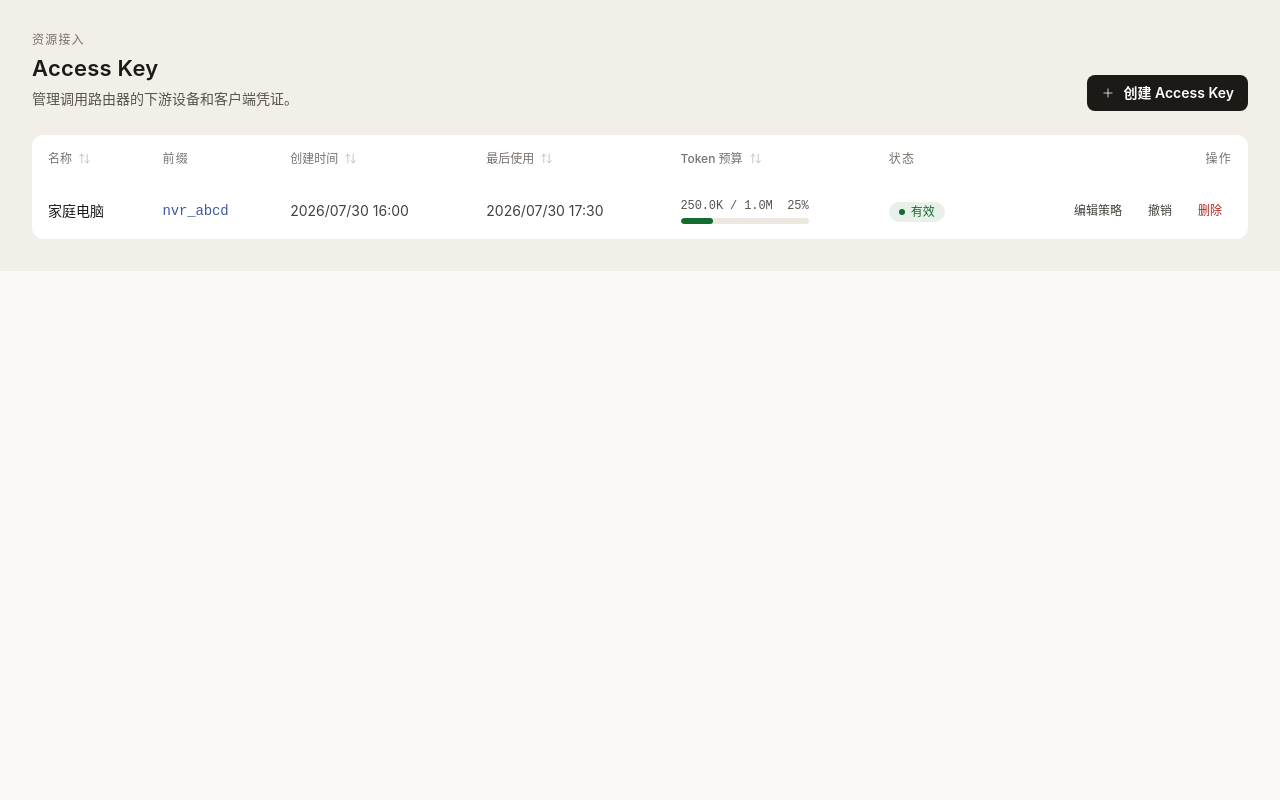
Test case: AccessKeysView › shows a newly created plaintext once, copies it, and cannot recover it after closing
Click the button with test id "open-create-access-key" at coordinates (1168, 93), box [1088,75,1248,111]
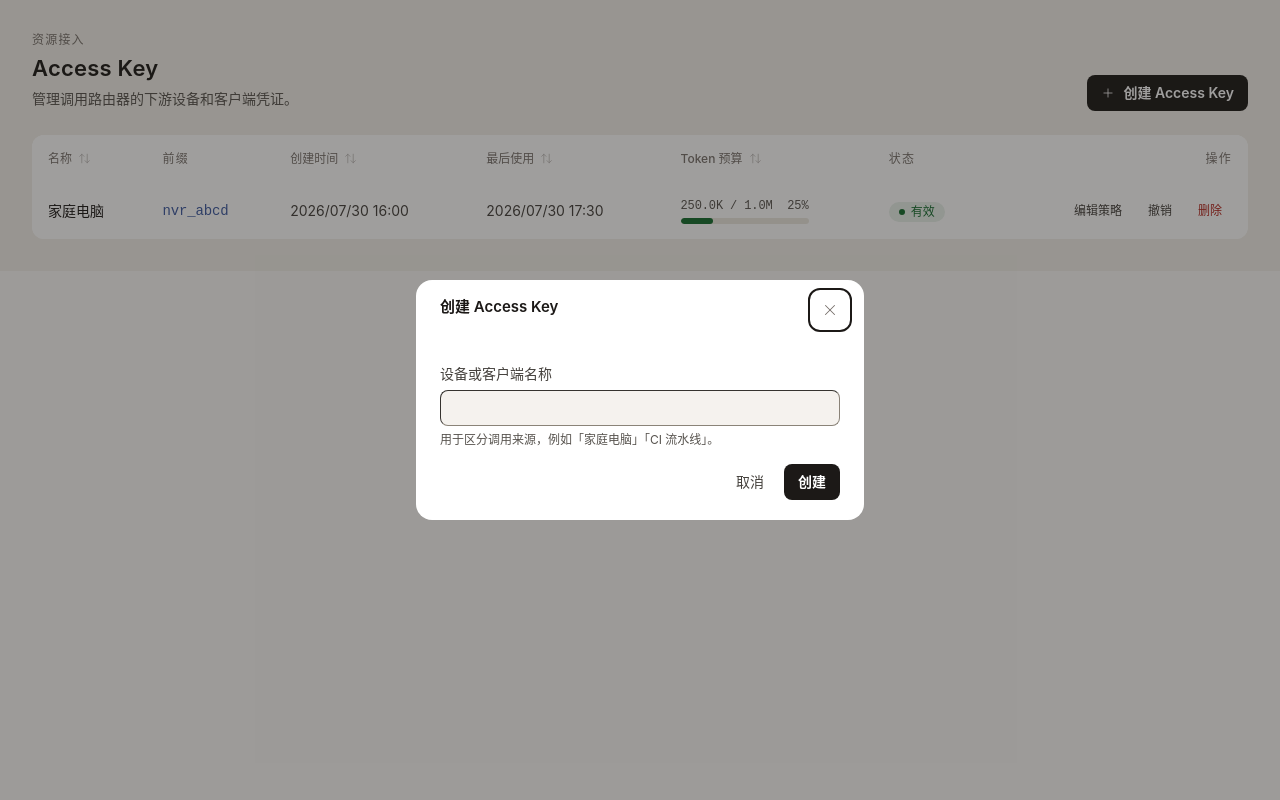
Type "CI" into the field with test id "access-key-name" at coordinates (640, 408), box [440,390,840,426]
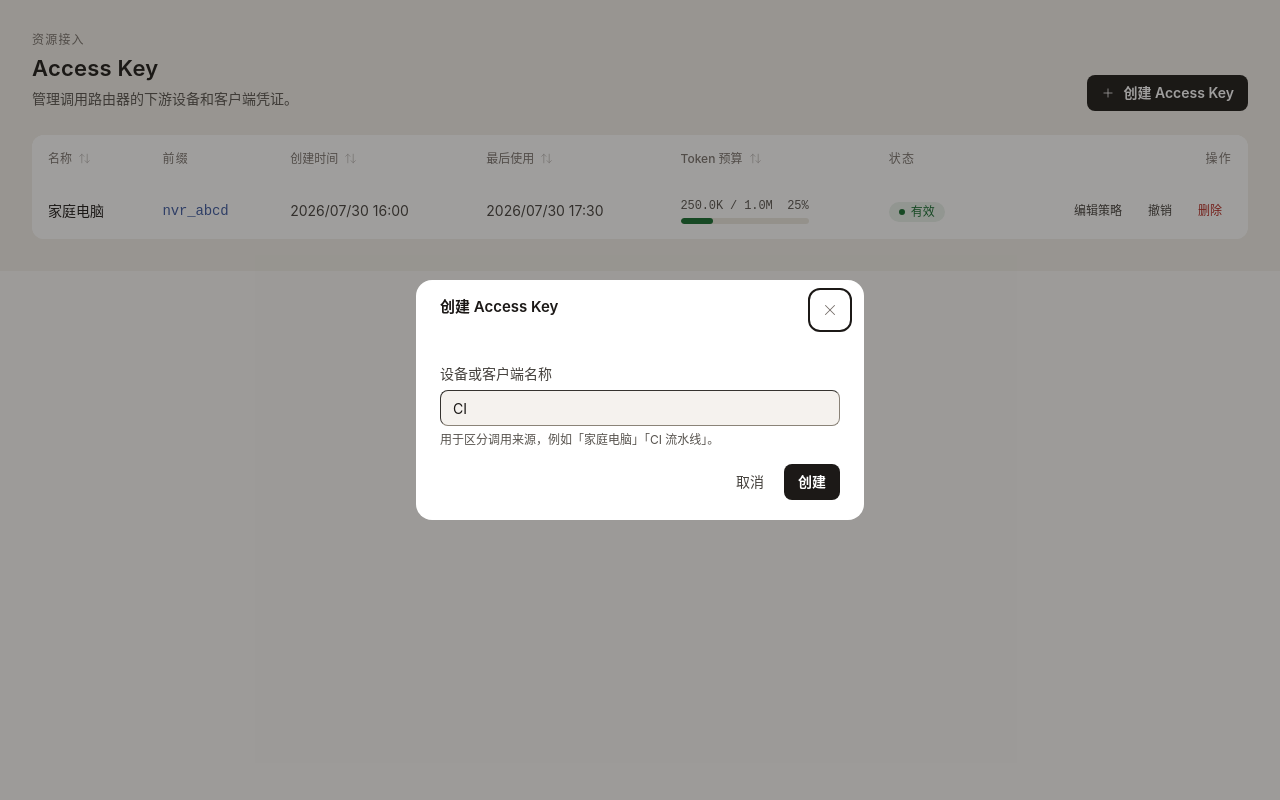
Submit the form with test id "create-access-key-form", box [440,364,840,500]
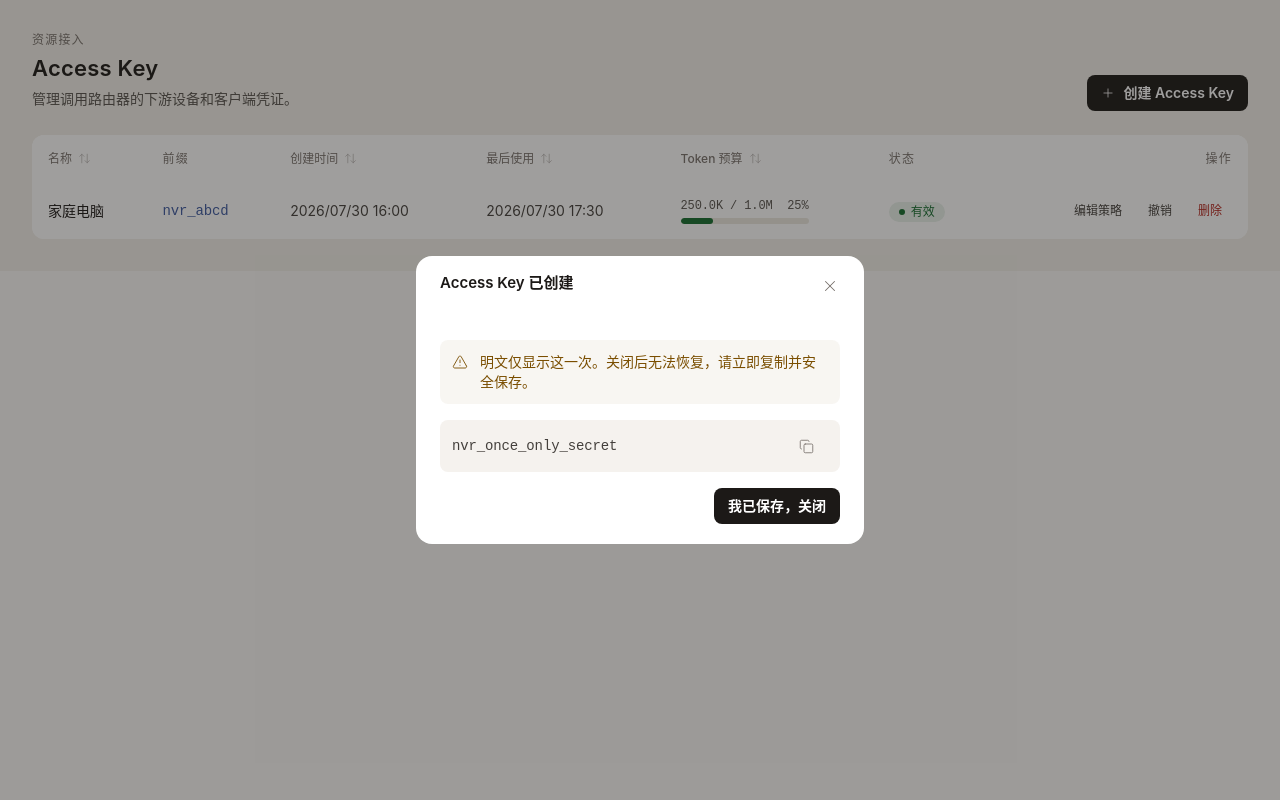
Result: the element with test id "created-access-key" reads "nvr_once_only_secret" at [452,438,617,454]
Click the button with test id "copy-created-access-key" at coordinates (806, 446), box [790,430,822,462]
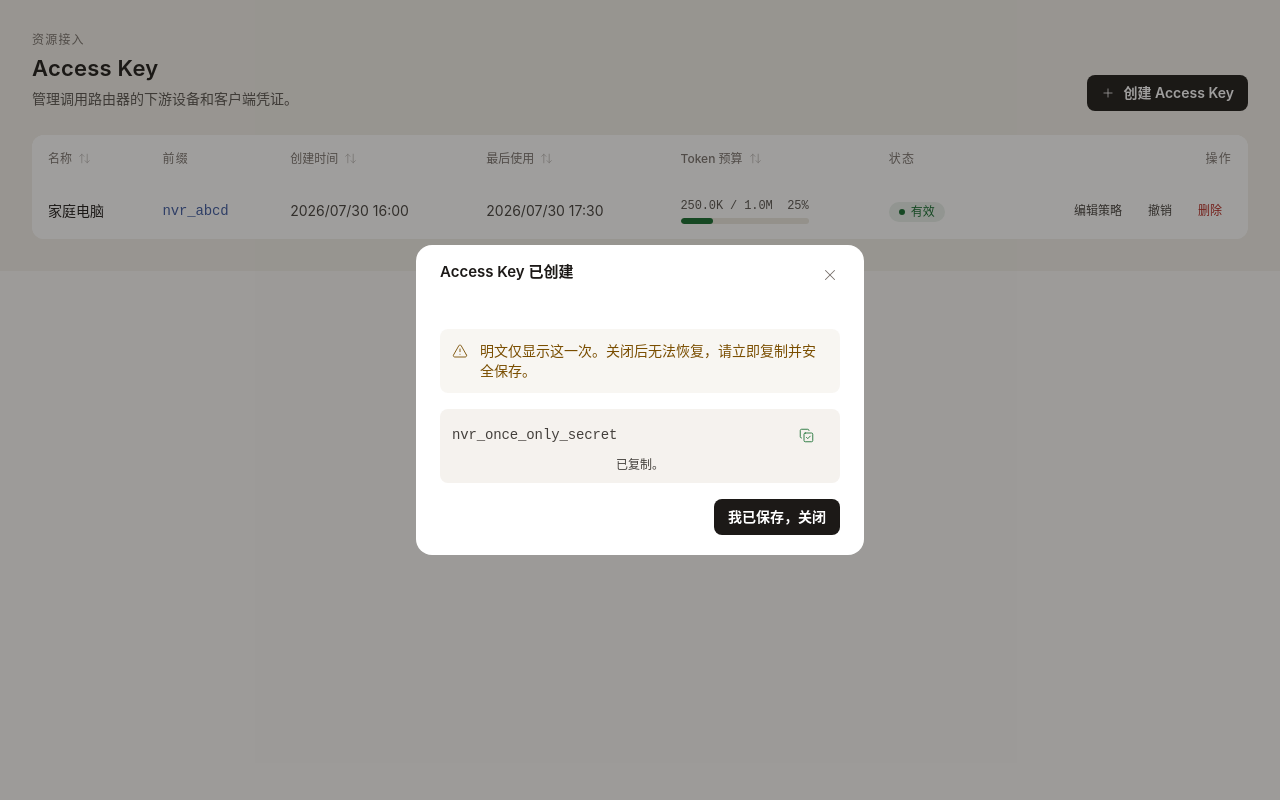
Click the button with test id "close-created-access-key" at coordinates (777, 517), box [714,499,840,535]
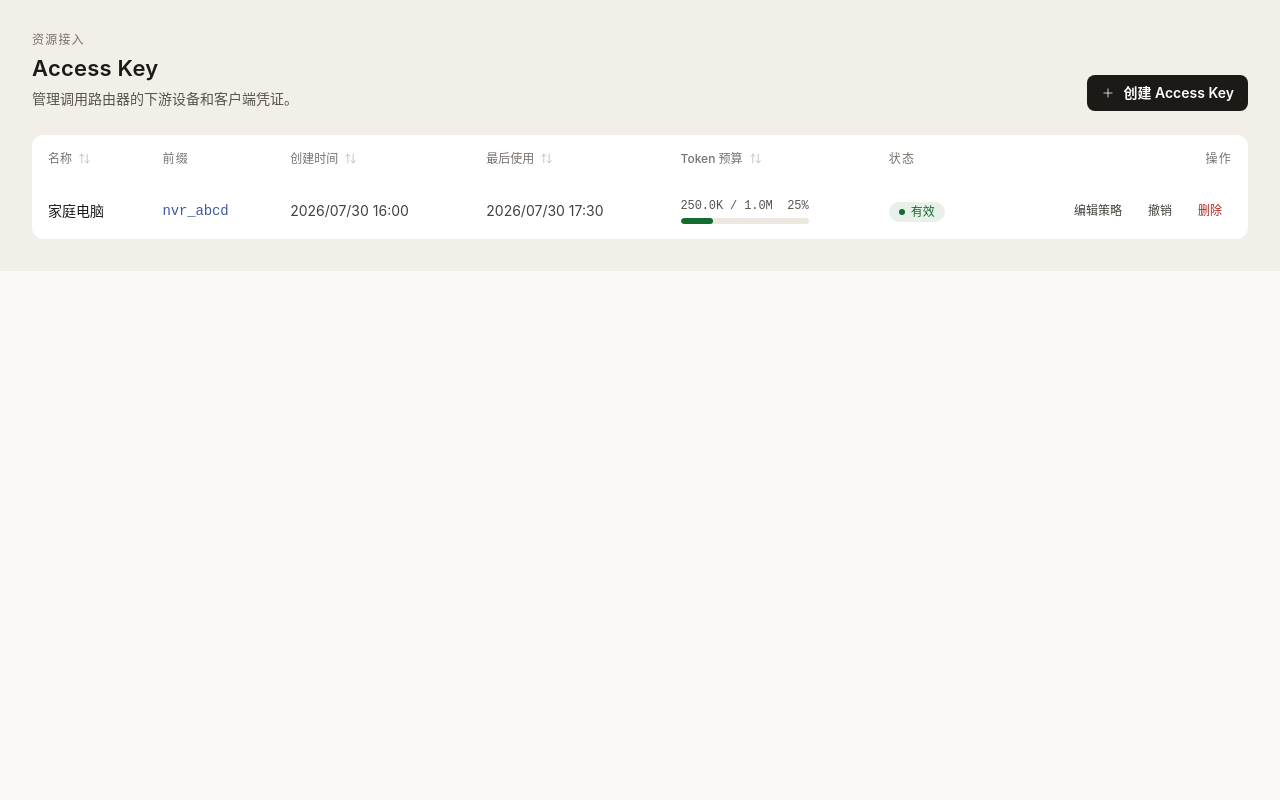
Result: the text "nvr_once_only_secret" is gone
Click the button with test id "open-create-access-key" at coordinates (1168, 93), box [1088,75,1248,111]
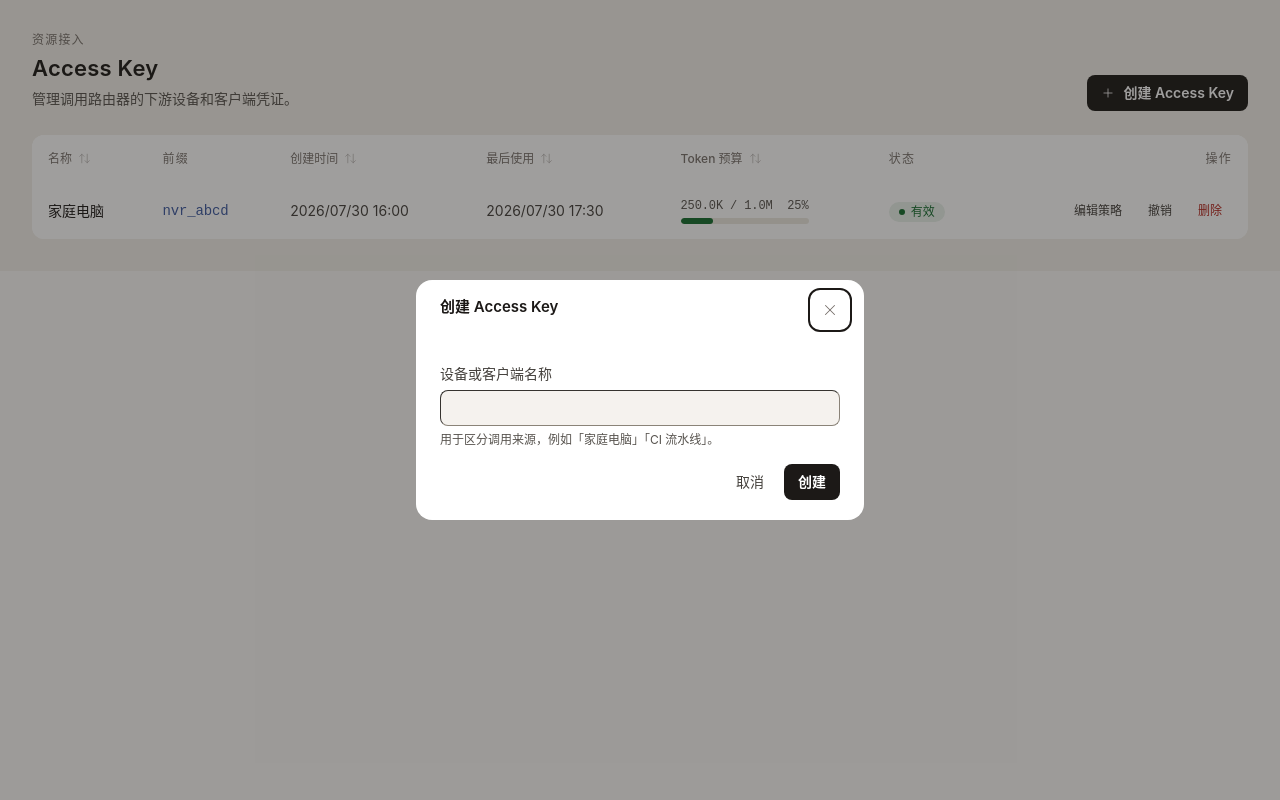
Result: the number of forms with test id "create-access-key-form" is 1 at [440,364,840,500]
